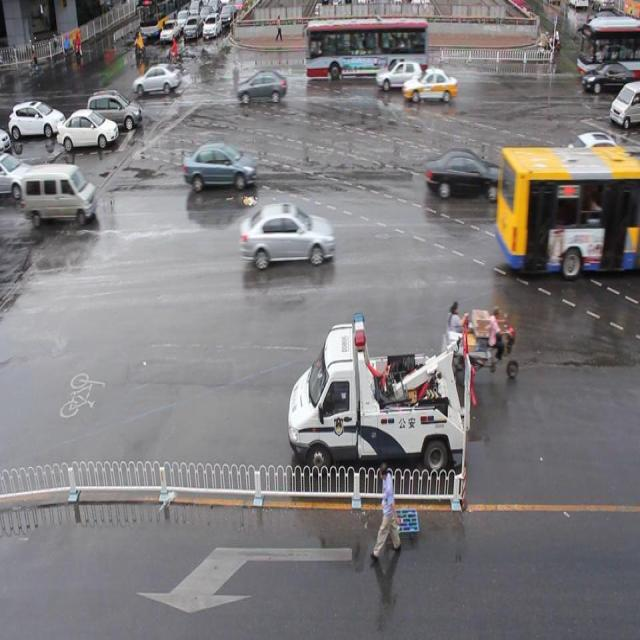car: (240, 204, 334, 267), (425, 146, 506, 201), (182, 142, 256, 190), (562, 131, 631, 175), (402, 66, 456, 105), (237, 70, 287, 105), (376, 59, 423, 92)
truck: (19, 163, 97, 222)
van: (496, 146, 640, 272), (303, 17, 427, 79)
